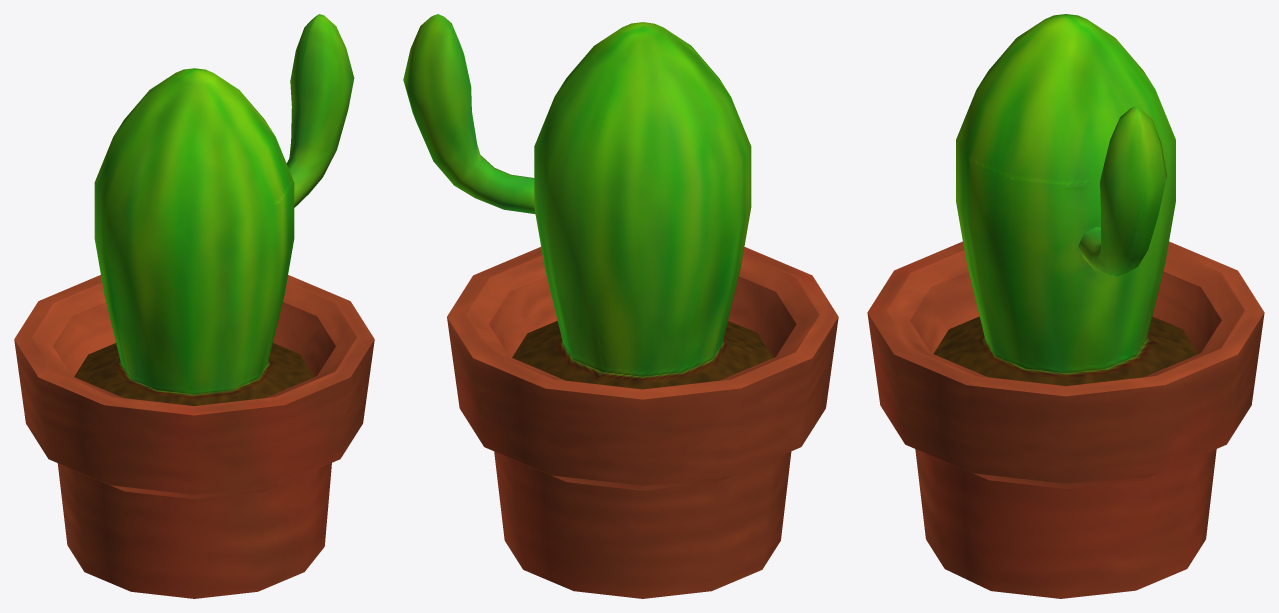
The model's file is cactus_sinai.fbx.
3 views of the same model, side by side, from view 1: azimuth 30°, elevation 25°; view 2: azimuth 150°, elevation 25°; view 3: azimuth 270°, elevation 25° (orthographic). The views are drawn at different scales.
Parts seen in each view (by area): view 1: Cactusito; view 2: Cactusito; view 3: Cactusito.
Boxes of the visible parts, x1=… form: Cactusito: x1=14, y1=14, x2=374, y2=598; Cactusito: x1=403, y1=14, x2=838, y2=598; Cactusito: x1=867, y1=14, x2=1264, y2=598.
Size of the model in its own units: 264 by 351 by 242.
1 material, 1 textured.
